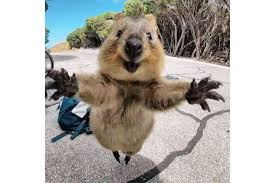quokka: (45, 12, 224, 164)
